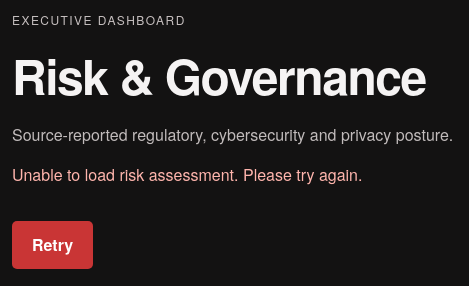
Test: Risk and innovation views › reports risk request errors and recovers on retry
This screenshot has width=469, height=286.
Expected: the message shows "Unable to load", x1=12 y1=163 x2=362 y2=186
Click the button "Retry" at [53, 245], box x1=12 y1=221 x2=93 y2=269
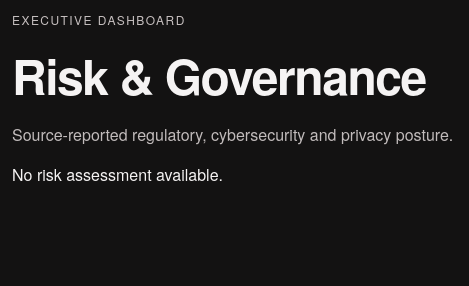
Now the text "No risk assessment available." is shown, box x1=12 y1=163 x2=223 y2=186
